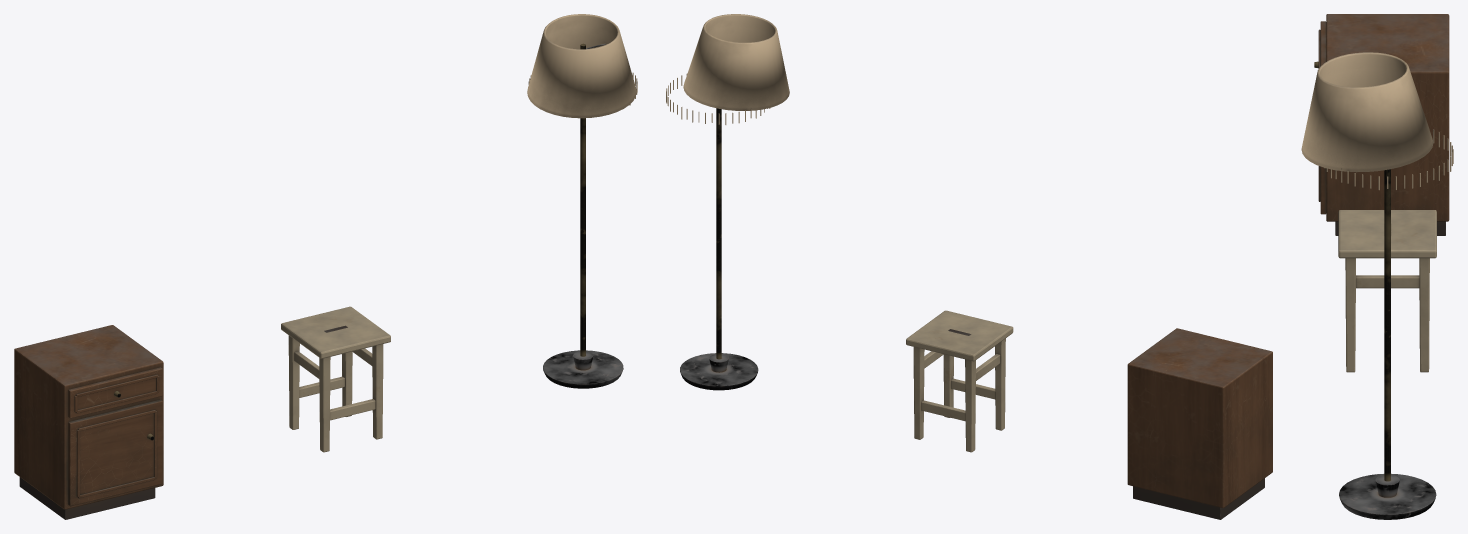
Rendered from FlatFurniture.fbx.
3 views of the same model, side by side, from view 1: azimuth 30°, elevation 25°; view 2: azimuth 150°, elevation 25°; view 3: azimuth 270°, elevation 25° (orthographic). The views are drawn at different scales.
Parts seen in each view (by area): view 1: Nightstand, FloorLamp, Stool; view 2: Nightstand, FloorLamp, Stool; view 3: FloorLamp, Nightstand, Stool.
Part boxes in pixels (x1=…): Nightstand: x1=14, y1=325, x2=163, y2=519; FloorLamp: x1=527, y1=14, x2=637, y2=388; Stool: x1=281, y1=306, x2=390, y2=452; Nightstand: x1=1127, y1=328, x2=1272, y2=519; FloorLamp: x1=666, y1=14, x2=789, y2=390; Stool: x1=906, y1=310, x2=1013, y2=452; FloorLamp: x1=1301, y1=52, x2=1453, y2=519; Nightstand: x1=1314, y1=14, x2=1449, y2=235; Stool: x1=1338, y1=210, x2=1436, y2=372.
Bounding box in the file's own units: 2.68 × 1.53 × 0.4946.
